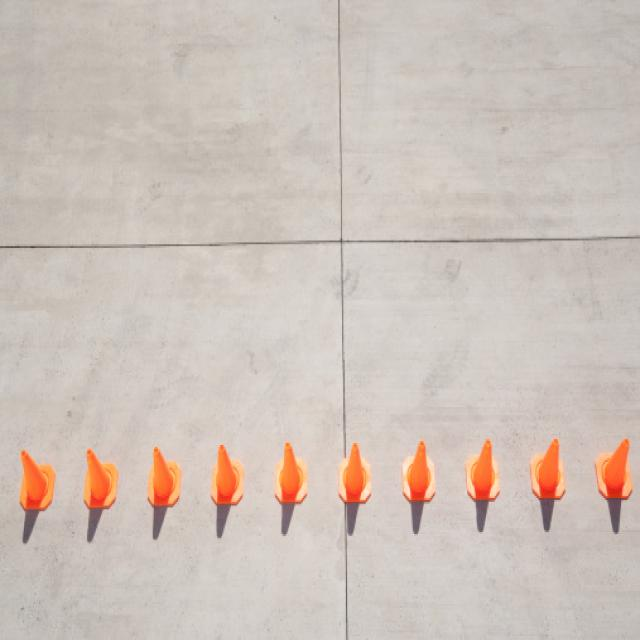cone: (16, 441, 54, 511), (593, 437, 635, 498), (529, 439, 567, 502), (400, 437, 437, 498), (80, 449, 118, 507), (464, 441, 500, 502), (144, 447, 180, 507), (336, 443, 370, 506), (210, 443, 243, 506), (273, 443, 308, 502)
